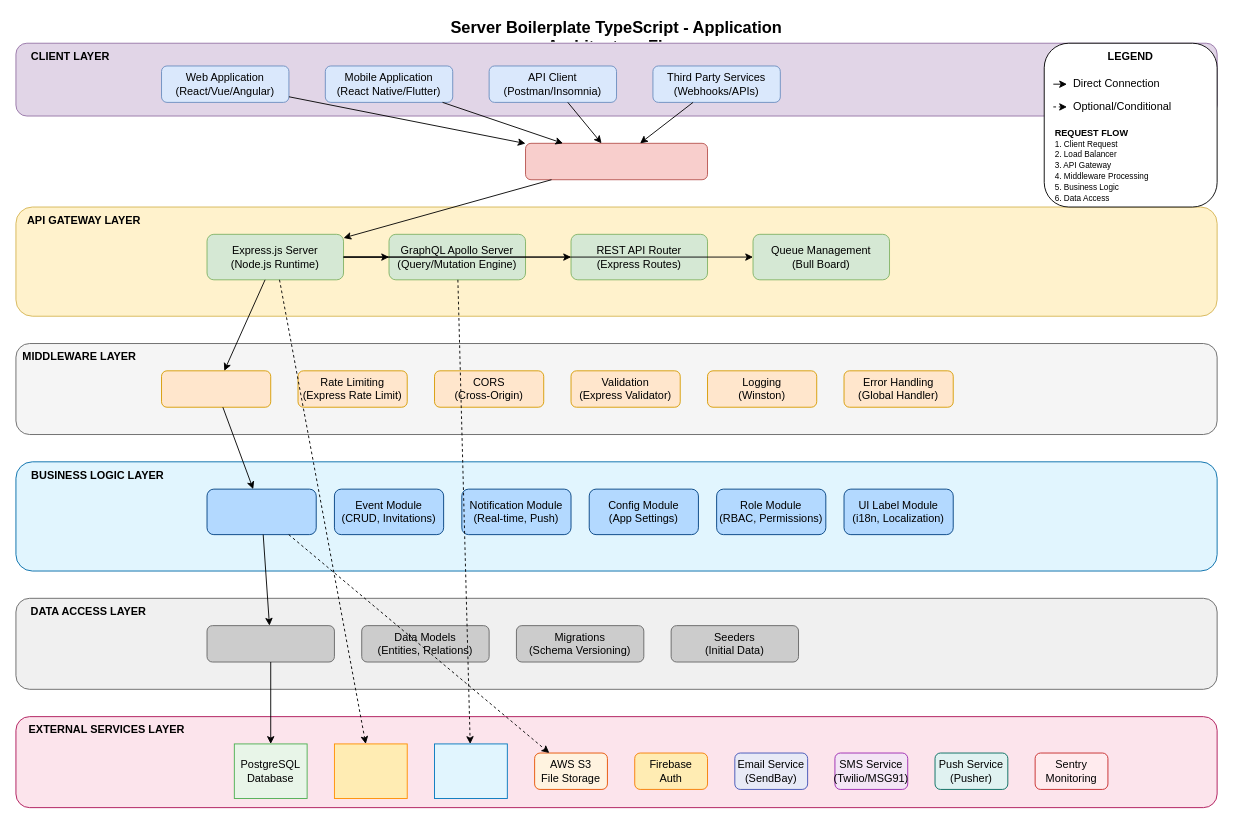
This 1233x824 diagram has some shape labels left out. Each missing label, with the box of its shape:
Authentication (JWT Tokens): (161, 370, 271, 407)
ElasticSearch Search Engine: (434, 743, 507, 799)
Load Balancer / CDN (CloudFront): (525, 142, 708, 180)
Redis Cache: (334, 743, 407, 799)
Sequelize ORM (Database Abstraction): (206, 625, 334, 662)
User Module (Auth, Profile, Prefs): (206, 488, 316, 535)
